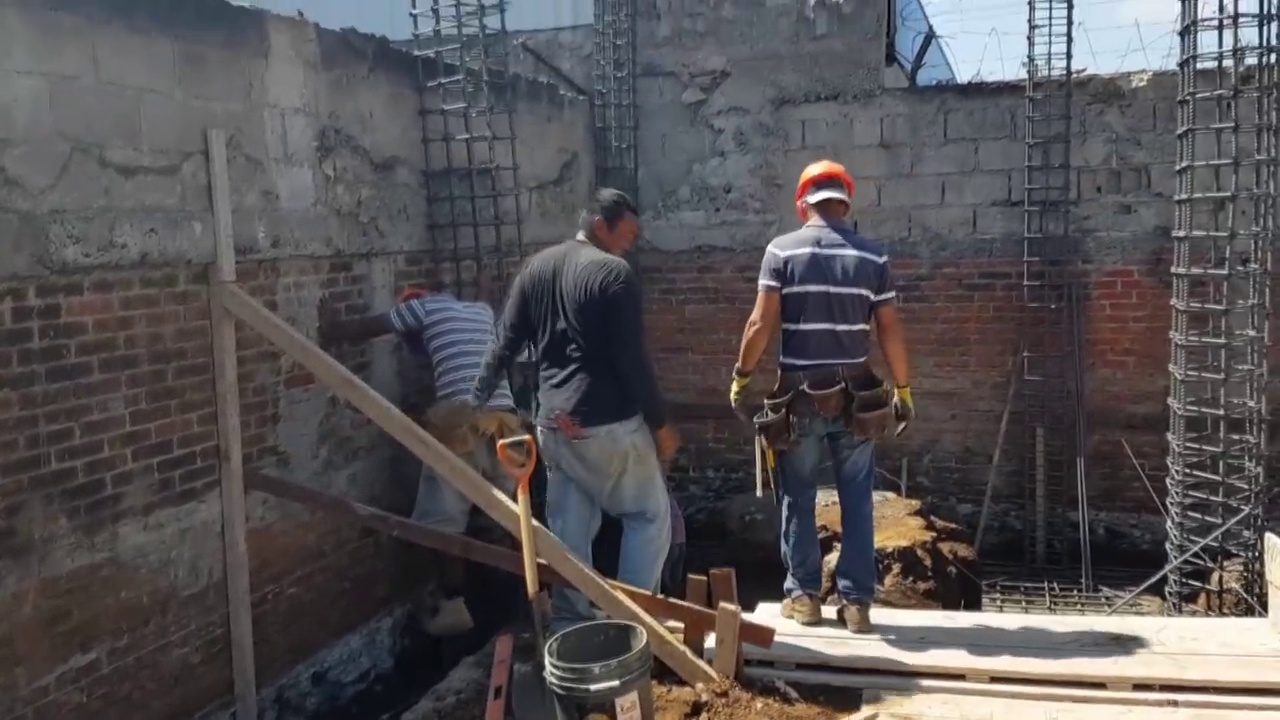helmet: (798, 160, 860, 214)
helmet-off: (581, 191, 646, 259)
helmet-on: (798, 162, 860, 234), (394, 287, 439, 308)
person: (481, 176, 684, 643), (736, 155, 914, 640), (318, 284, 530, 658)
